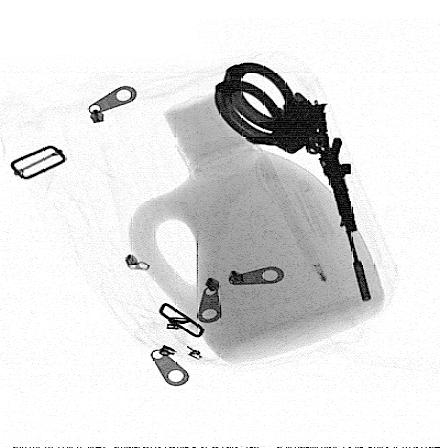Gun: (307, 103, 372, 302)
HandCuffs: (209, 61, 333, 160)
